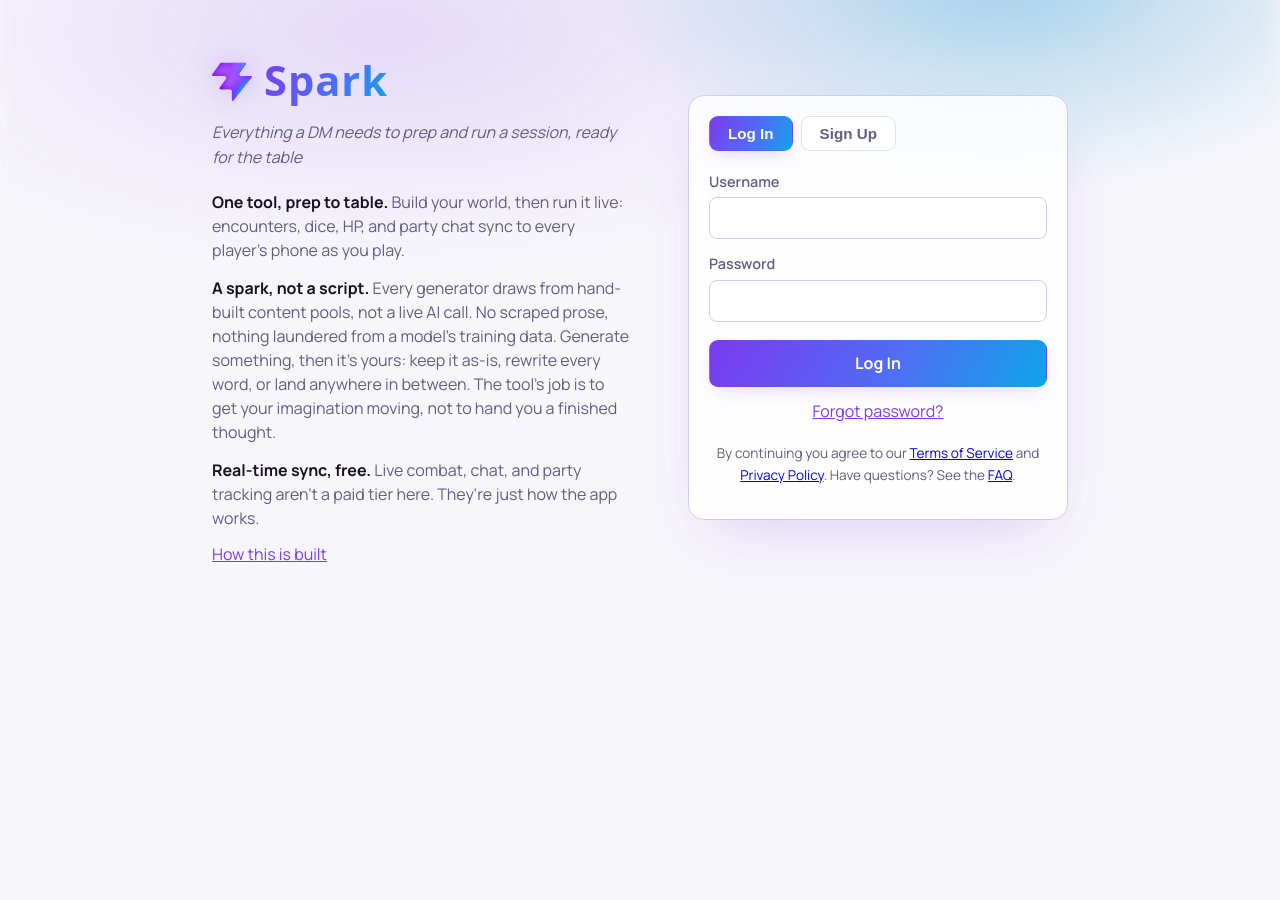
AuthPage › switches to reset mode via Forgot password?, showing a recovery code field and hiding the mode tabs
Click the button "Forgot password?" at x=878, y=411, box [812,399,944,424]
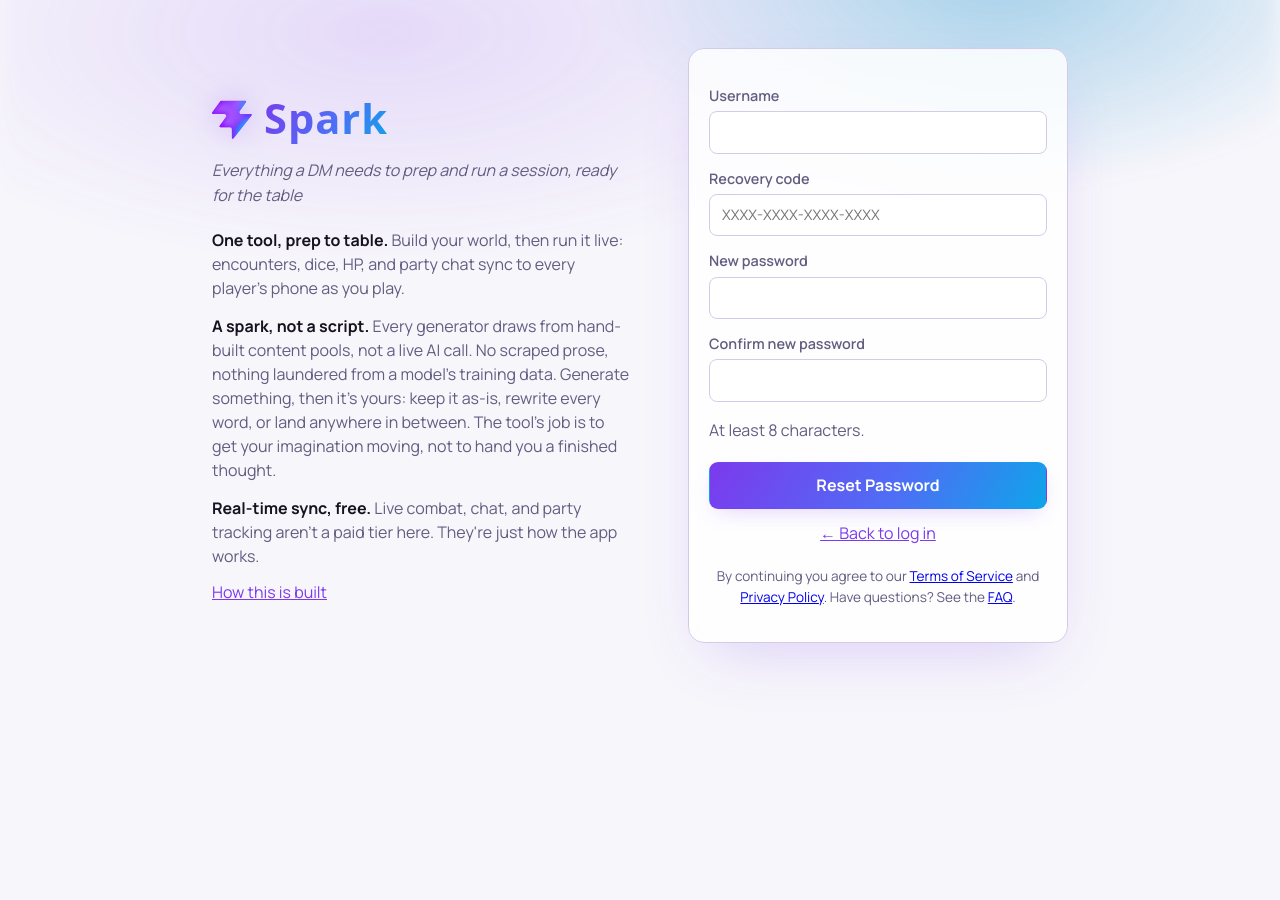
Expected: the field labelled "Recovery code" is shown, [709,194,1047,236]
Expected: the button "Sign Up" is gone
Expected: the button "Reset Password" is shown, [709,462,1047,509]
